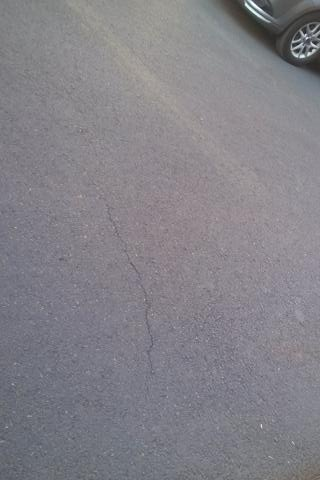A: (82, 187, 163, 390)
